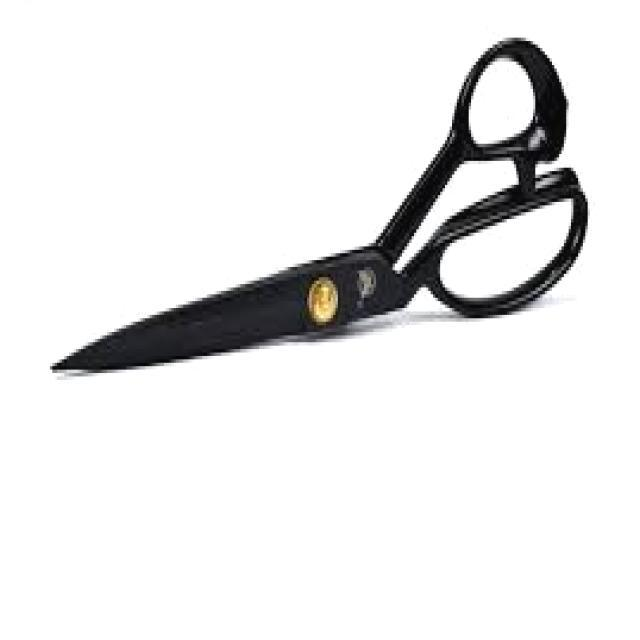Scissors: (34, 29, 596, 388)
